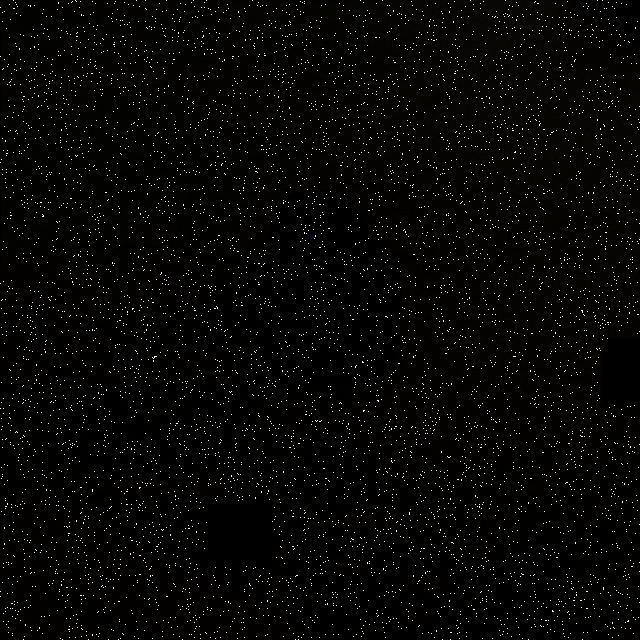egg: (264, 183, 378, 332)
